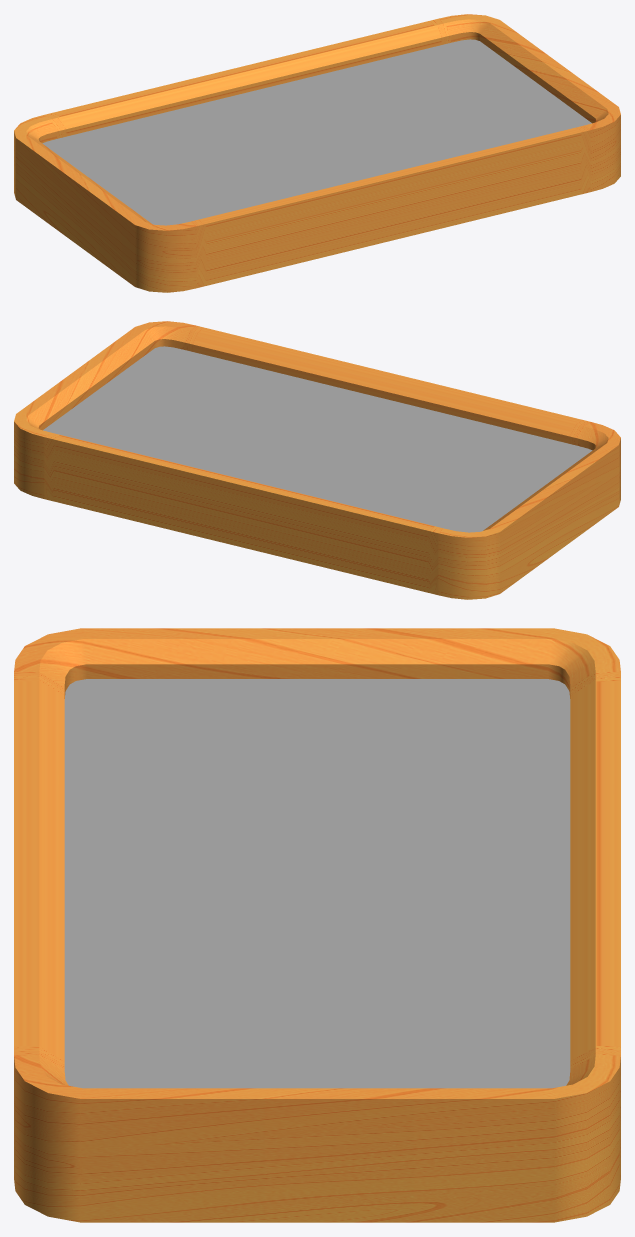
The model's file is lineup.fbx.
The picture shows the model from 3 angles, top to bottom: view 1: azimuth 30°, elevation 25°; view 2: azimuth 150°, elevation 25°; view 3: azimuth 270°, elevation 25°; orthographic projection. The views are drawn at different scales.
Parts seen in each view (by area): view 1: lineup; view 2: lineup; view 3: lineup.
Boxes of the visible parts, x1,y1,x2,y2 form: lineup: (14, 14, 620, 292); lineup: (14, 321, 620, 599); lineup: (14, 628, 620, 1222).
Bounding box in the file's own units: 2.2 × 0.2696 × 1.2.
